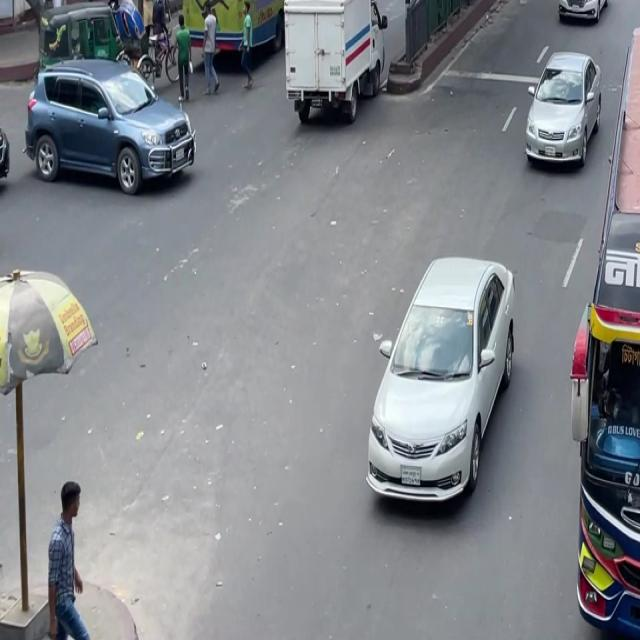bus: (569, 102, 640, 640), (184, 0, 351, 58)
car: (362, 238, 524, 518), (18, 39, 201, 218), (519, 44, 605, 181), (554, 0, 615, 31)
van: (273, 0, 388, 139)
